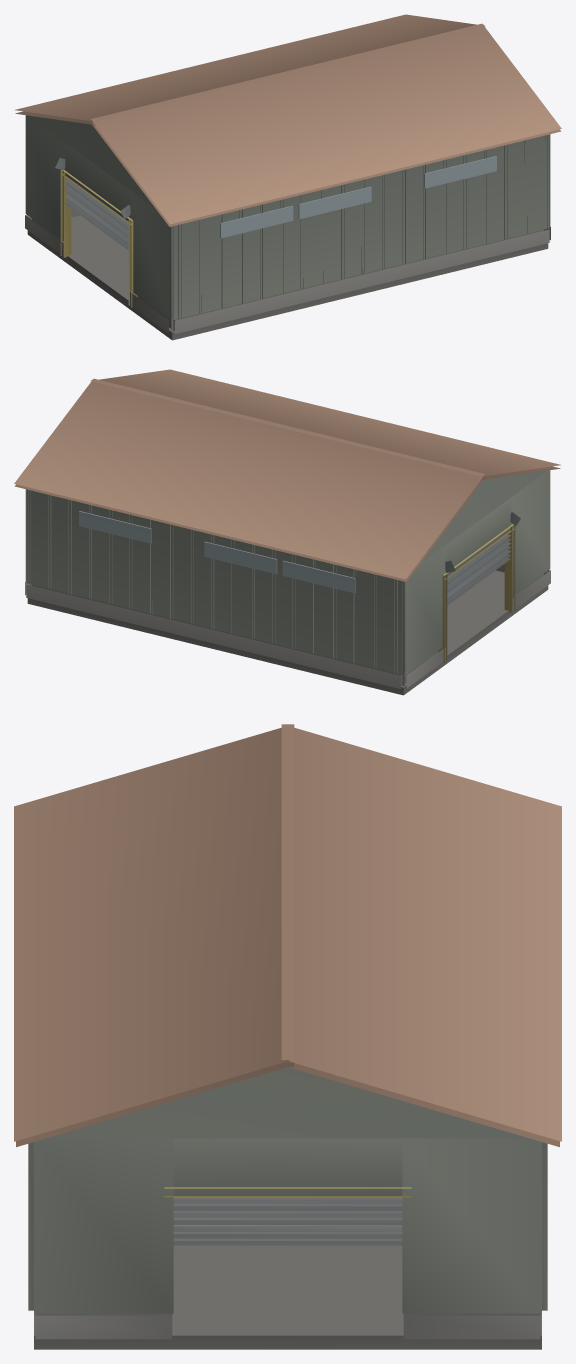
The model's file is mil_warehouse.lod.glb.
3 renders of one model, top to bottom at view 1: azimuth 30°, elevation 25°; view 2: azimuth 150°, elevation 25°; view 3: azimuth 270°, elevation 25°, orthographic. The views are drawn at different scales.
Parts seen in each view (by area): view 1: mil_warehouse; view 2: mil_warehouse; view 3: mil_warehouse.
Part boxes in pixels (x1,y1,x2,y2): mil_warehouse: (15,14,561,340); mil_warehouse: (14,369,560,695); mil_warehouse: (14,724,561,1349).
Bounding box in the file's own units: 25.58 × 10.3 × 17.26.
